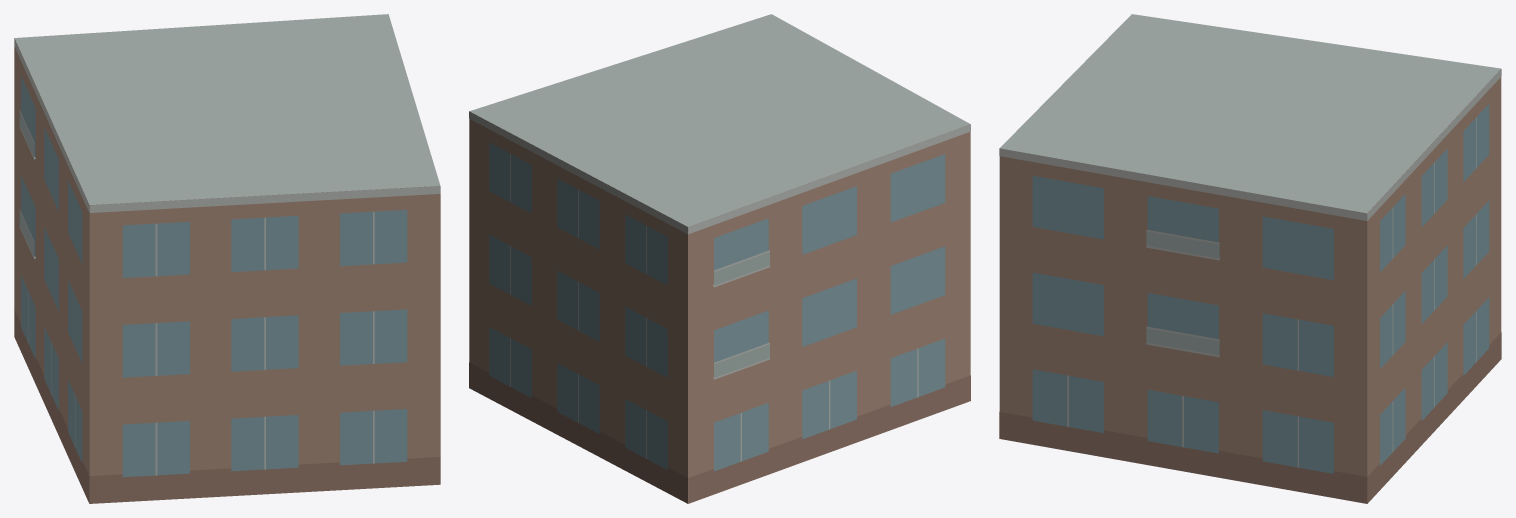
Rendered from survey-upis-33012156.glb.
The picture shows the model from 3 angles, left to right: view 1: azimuth 30°, elevation 25°; view 2: azimuth 150°, elevation 25°; view 3: azimuth 270°, elevation 25°; orthographic projection. The views are drawn at different scales.
Visible parts, largest first — view 1: survey-upis-33012156.tmp; view 2: survey-upis-33012156.tmp; view 3: survey-upis-33012156.tmp.
Part boxes in pixels (x1=…): survey-upis-33012156.tmp: x1=14, y1=14, x2=440, y2=503; survey-upis-33012156.tmp: x1=469, y1=14, x2=970, y2=503; survey-upis-33012156.tmp: x1=999, y1=14, x2=1501, y2=503.
Bounding box in the file's own units: 13.48 × 9.15 × 14.34.
